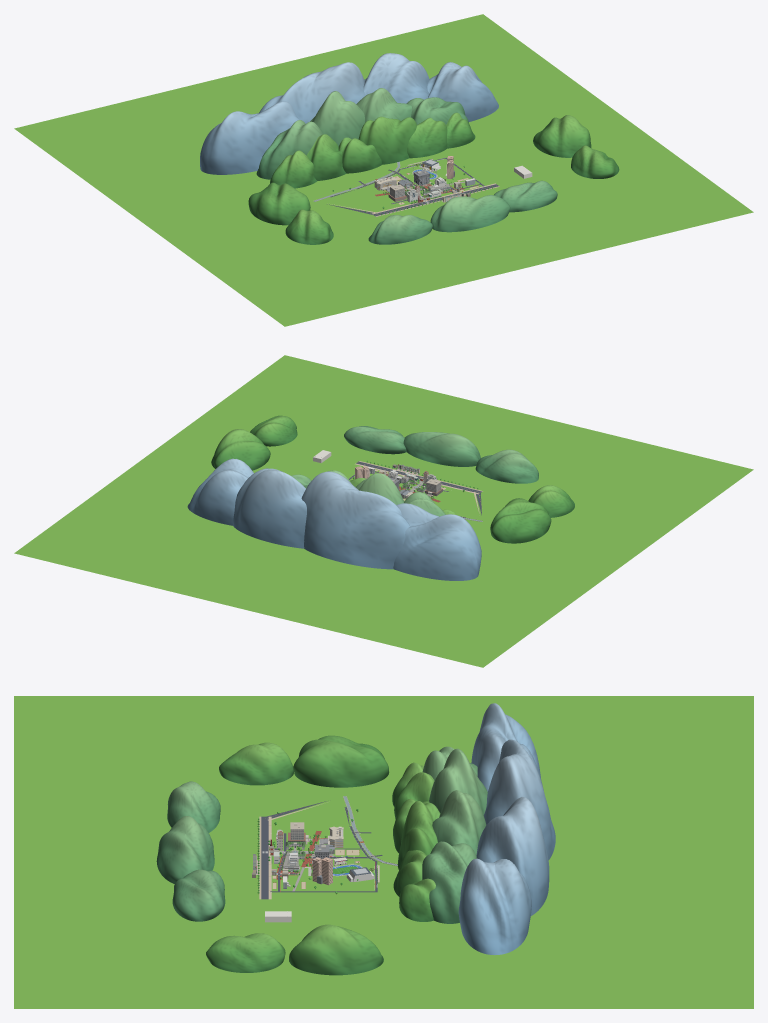
File: campus.glb
3 renders of one model, top to bottom at view 1: azimuth 30°, elevation 25°; view 2: azimuth 150°, elevation 25°; view 3: azimuth 270°, elevation 25°, orthographic. The views are drawn at different scales.
Parts seen in each view (by area): view 1: terrain_0_0_-4, surface_234_-5_-7, surface_235_-1_-8, surface_237_5_-7, surface_236_2_-7, surface_239_0_2, surface_227_0_-5, surface_241_-6_-2, surface_231_-1_-6, surface_230_-3_-6, surface_242_7_-2, surface_238_-3_2 (+10 smaller); view 2: terrain_0_0_-4, surface_235_-1_-8, surface_234_-5_-7, surface_236_2_-7, surface_237_5_-7, surface_241_-6_-2, surface_239_0_2, surface_238_-3_2, surface_242_7_-2, surface_240_3_2, surface_244_7_0, surface_243_-6_0 (+1 smaller); view 3: terrain_0_0_-4, surface_237_5_-7, surface_236_2_-7, surface_241_-6_-2, surface_235_-1_-8, surface_242_7_-2, surface_233_3_-6, surface_239_0_2, surface_234_-5_-7, surface_244_7_0, surface_243_-6_0, surface_240_3_2 (+9 smaller).
Boxes of the visible parts, x1,y1,x2,y2 form: terrain_0_0_-4: (14, 14, 753, 326); surface_234_-5_-7: (200, 101, 299, 174); surface_235_-1_-8: (259, 62, 365, 123); surface_237_5_-7: (427, 62, 498, 121); surface_236_2_-7: (363, 53, 429, 103); surface_239_0_2: (430, 195, 510, 232); surface_227_0_-5: (358, 116, 416, 164); surface_241_-6_-2: (248, 182, 310, 225); surface_231_-1_-6: (310, 91, 364, 146); surface_230_-3_-6: (256, 120, 322, 179); surface_242_7_-2: (533, 115, 591, 157); surface_238_-3_2: (368, 215, 432, 244); terrain_0_0_-4: (14, 355, 753, 667); surface_235_-1_-8: (301, 471, 409, 569); surface_234_-5_-7: (393, 503, 481, 580); surface_236_2_-7: (233, 468, 306, 548); surface_237_5_-7: (187, 458, 253, 525); surface_241_-6_-2: (490, 498, 551, 543); surface_239_0_2: (403, 432, 480, 466); surface_238_-3_2: (475, 449, 538, 483); surface_242_7_-2: (211, 429, 270, 470); surface_240_3_2: (344, 426, 406, 454); surface_244_7_0: (250, 415, 297, 446); surface_243_-6_0: (528, 485, 574, 517); terrain_0_0_-4: (14, 696, 753, 1008); surface_237_5_-7: (458, 858, 531, 955); surface_236_2_-7: (476, 797, 549, 915); surface_241_-6_-2: (293, 735, 389, 787); surface_235_-1_-8: (483, 739, 555, 859); surface_242_7_-2: (289, 924, 383, 975); surface_233_3_-6: (422, 841, 476, 923); surface_239_0_2: (156, 816, 214, 883); surface_234_-5_-7: (471, 703, 540, 791); surface_244_7_0: (206, 933, 285, 972); surface_243_-6_0: (219, 742, 293, 785); surface_240_3_2: (172, 869, 225, 921).
Size of what is drawn, in the model's own units: 1400 by 207 by 1400.
Materials: 708 (306 with a texture image).
